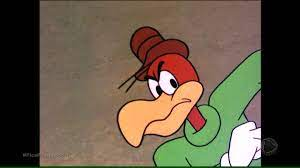urubu: (104, 15, 261, 168)
